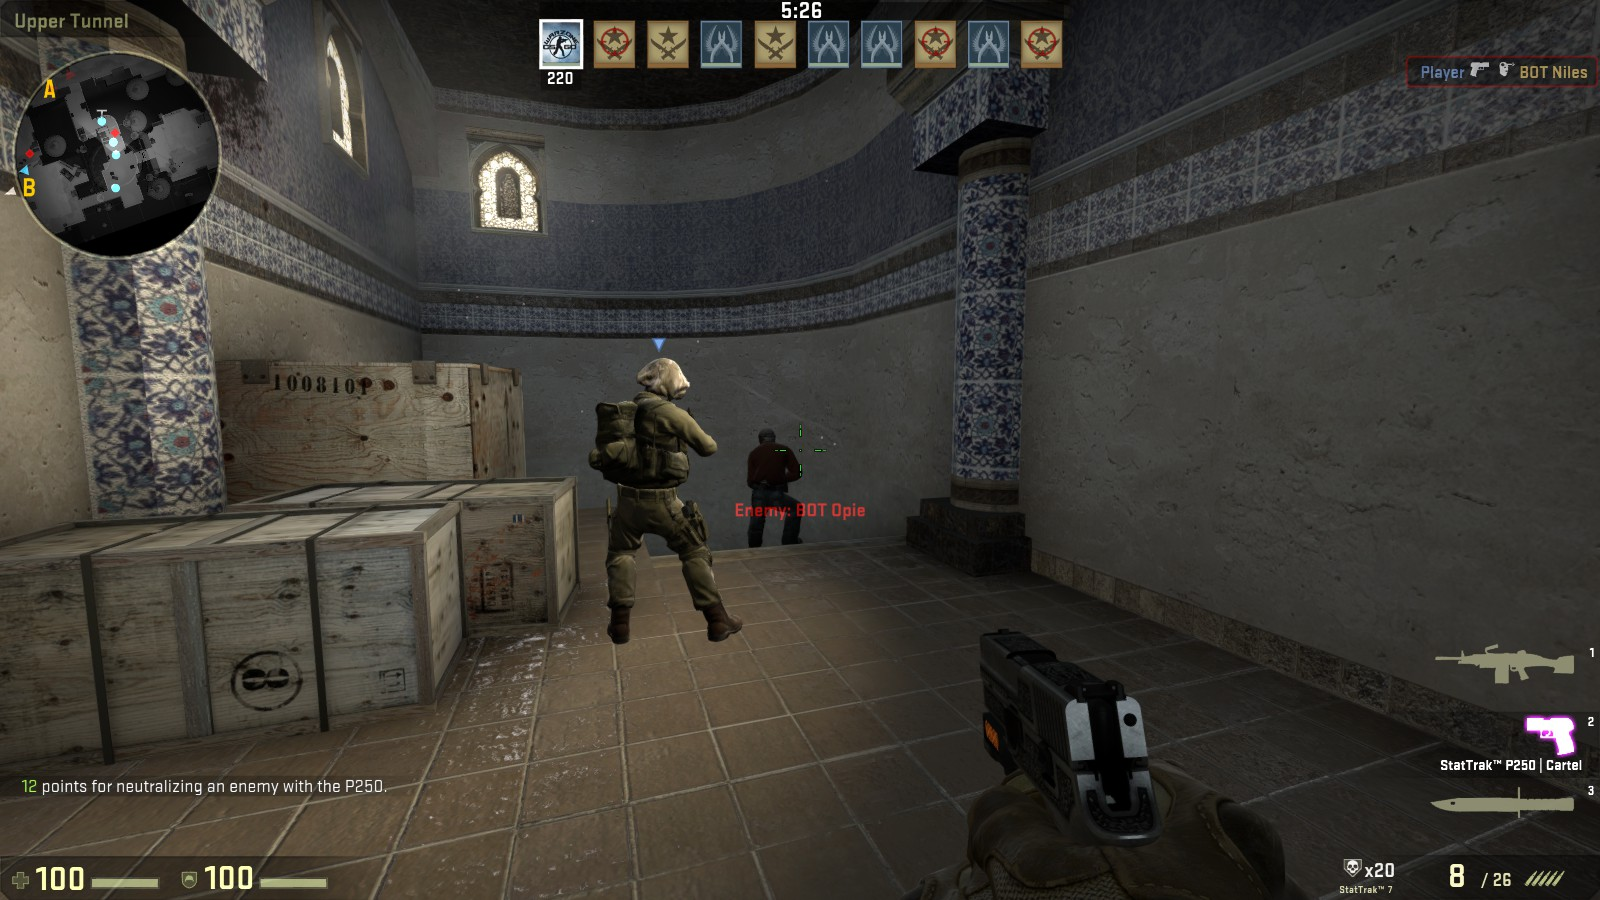c: (601, 356, 712, 646)
ch: (636, 358, 690, 405)
t: (745, 427, 805, 548)
th: (755, 425, 780, 451)
